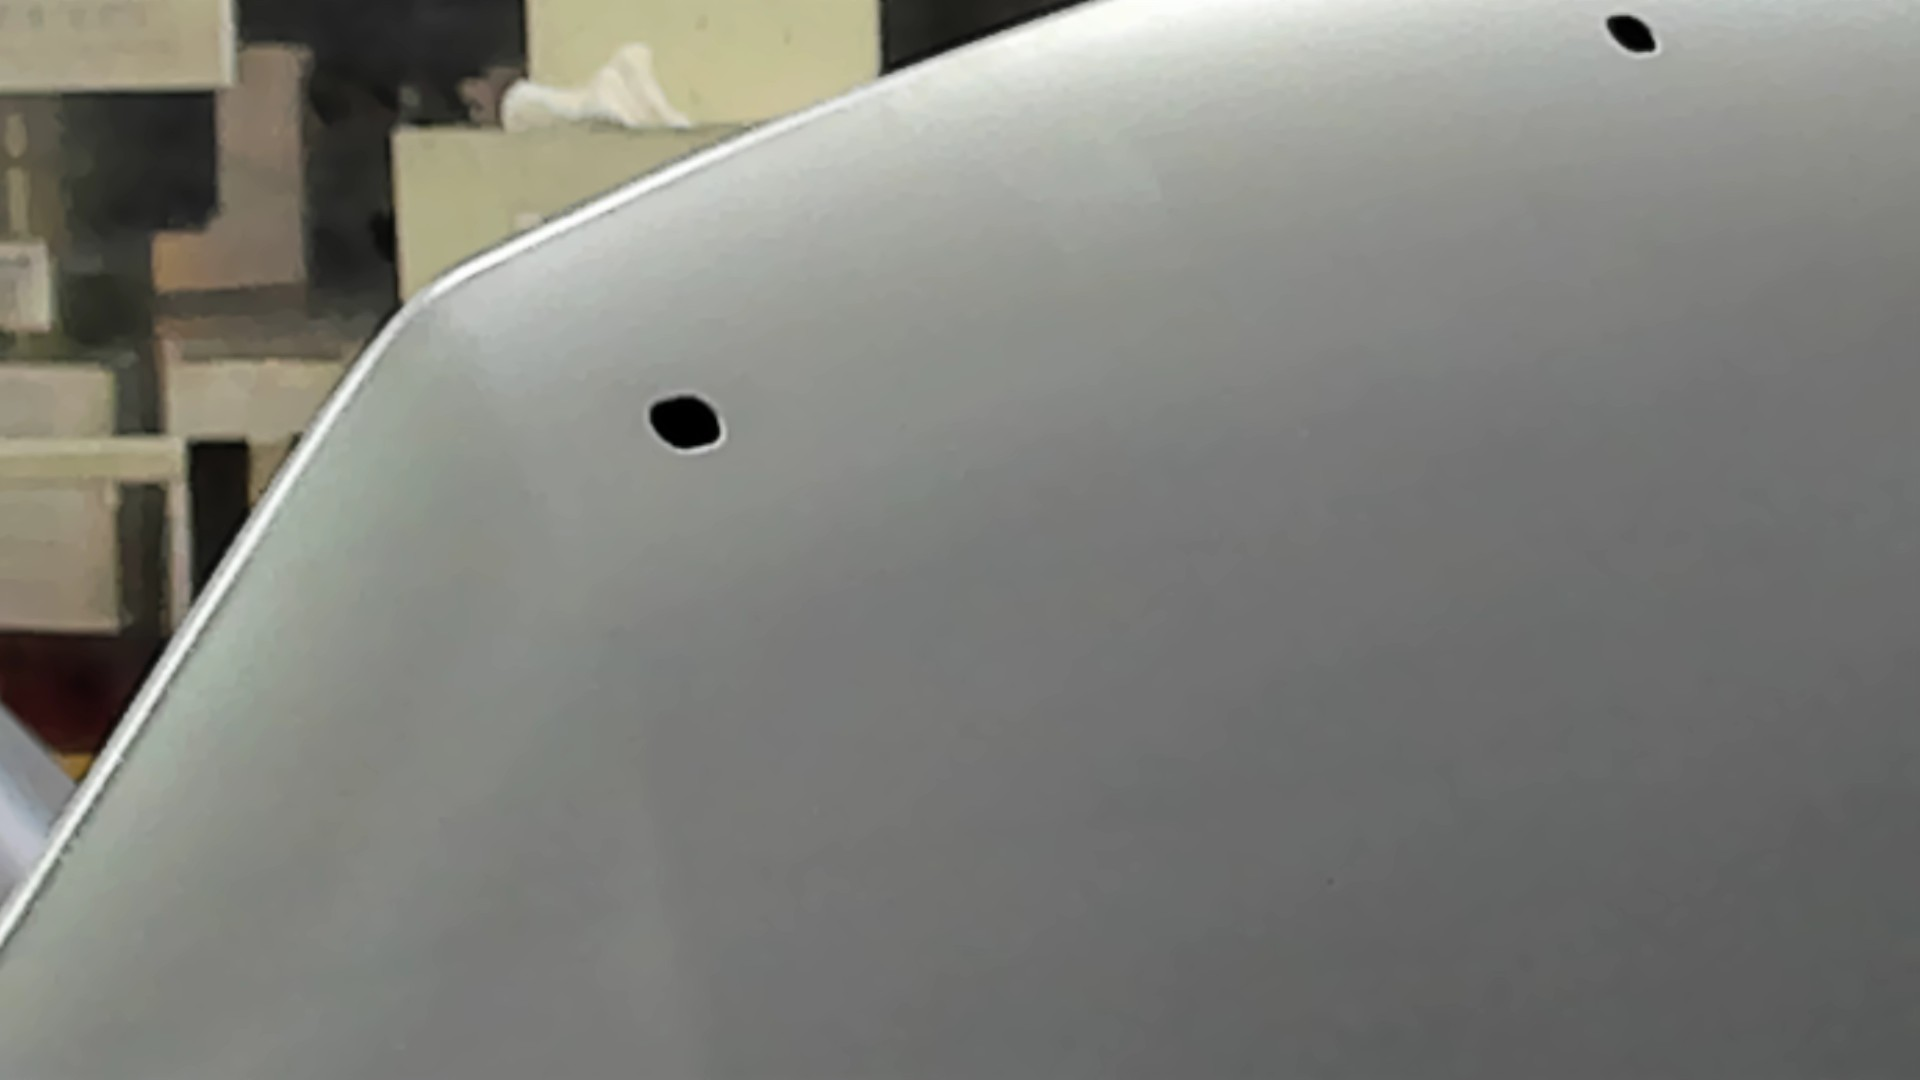amorfo: (644, 385, 733, 460), (1606, 13, 1664, 58)
